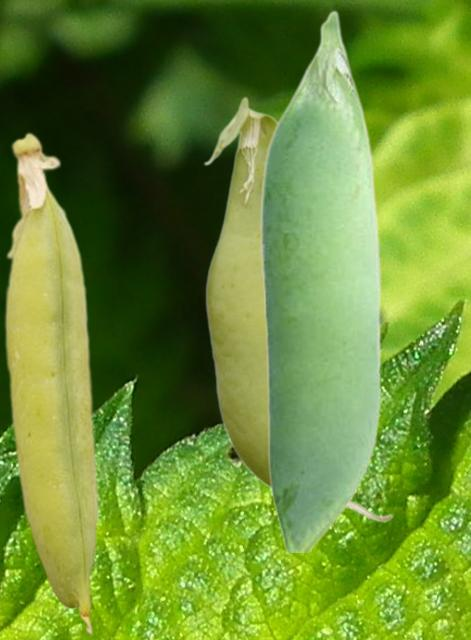pea: (203, 96, 394, 522), (259, 9, 380, 551), (4, 131, 99, 634)
